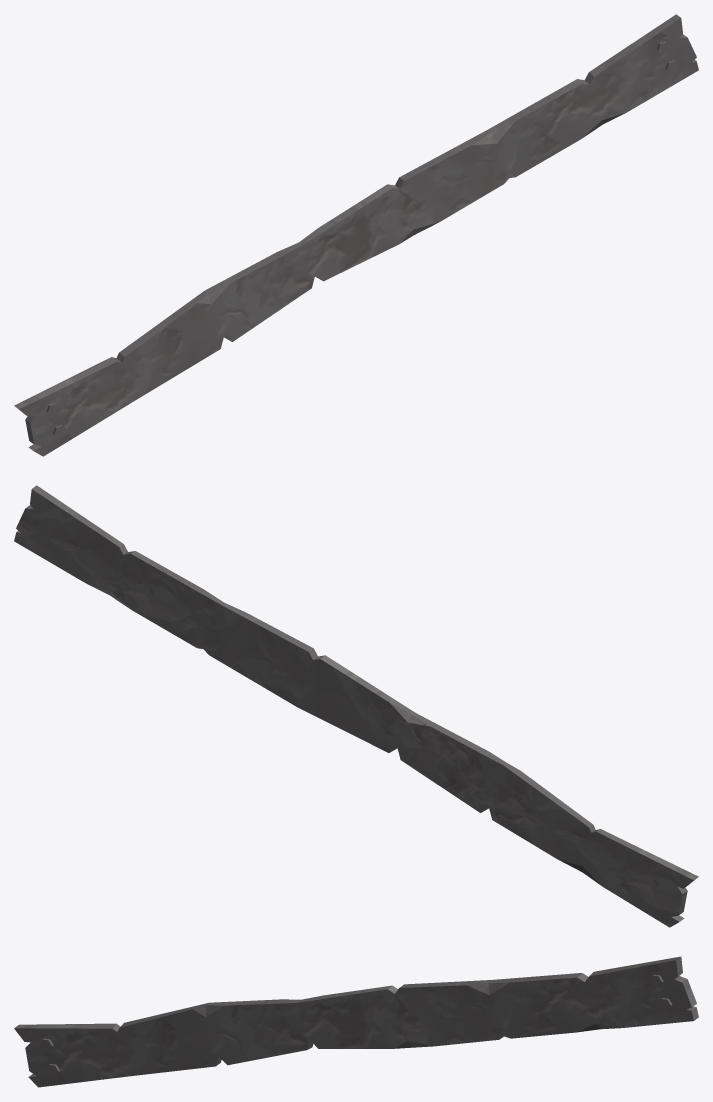
File: Kayupalang2.fbx
3 renders of one model, top to bottom at view 1: azimuth 30°, elevation 25°; view 2: azimuth 150°, elevation 25°; view 3: azimuth 330°, elevation 25°, orthographic.
Parts seen in each view (by area): view 1: Plane.003; view 2: Plane.003; view 3: Plane.003.
Boxes of the visible parts, left/top/right/bottom form: Plane.003: left=14, top=14, right=698, bottom=456; Plane.003: left=14, top=485, right=698, bottom=927; Plane.003: left=14, top=956, right=698, bottom=1087.
Size of the model in its own units: 303 by 121 by 6.17.
